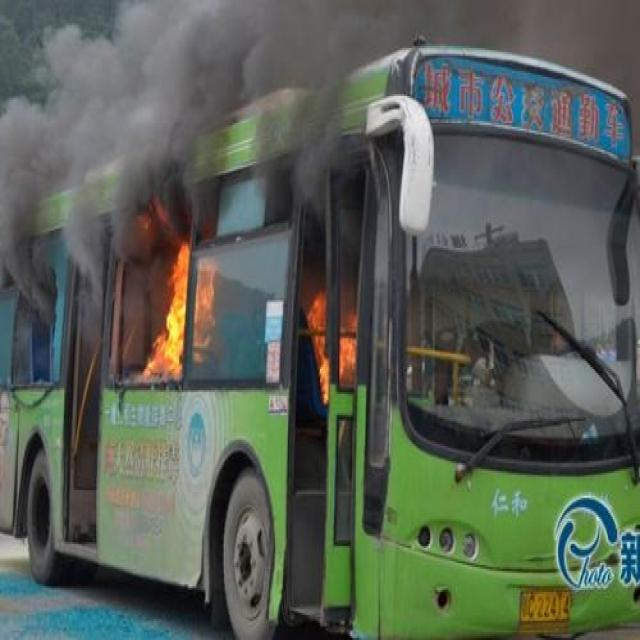fire: (130, 236, 382, 412)
smoke: (1, 0, 430, 234)
